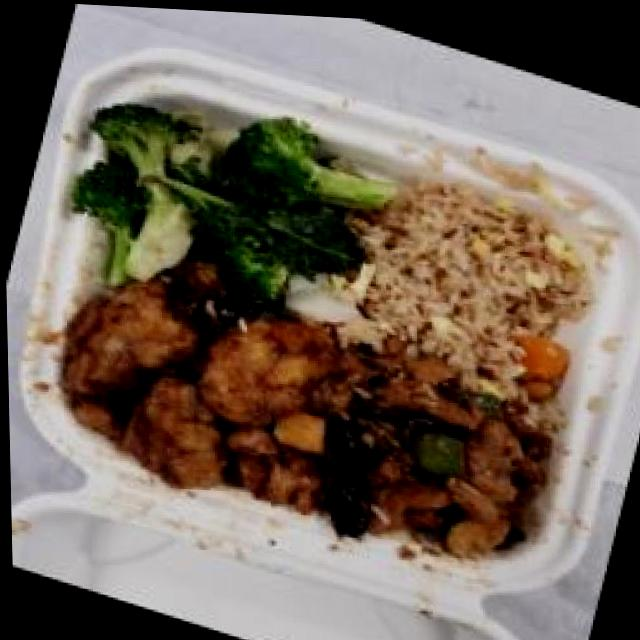Kung Pao Chicken: (250, 305, 575, 593)
Super Greens: (41, 52, 394, 354)
The Original Orange Chicken: (24, 246, 354, 529)
White Steamed Rice: (320, 148, 608, 409)
